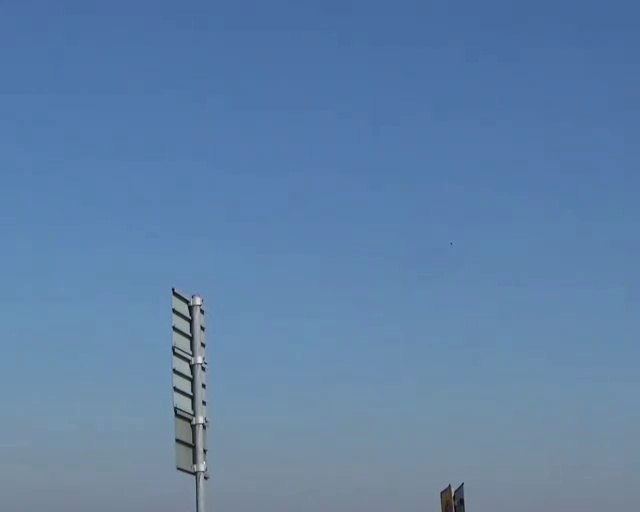BIRD: (446, 233, 459, 245)
